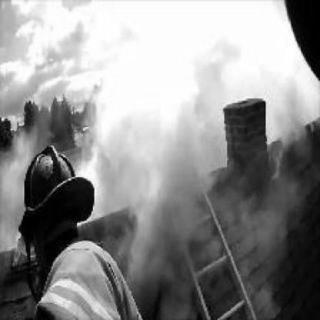other: (126, 50, 196, 123), (50, 276, 106, 317)
